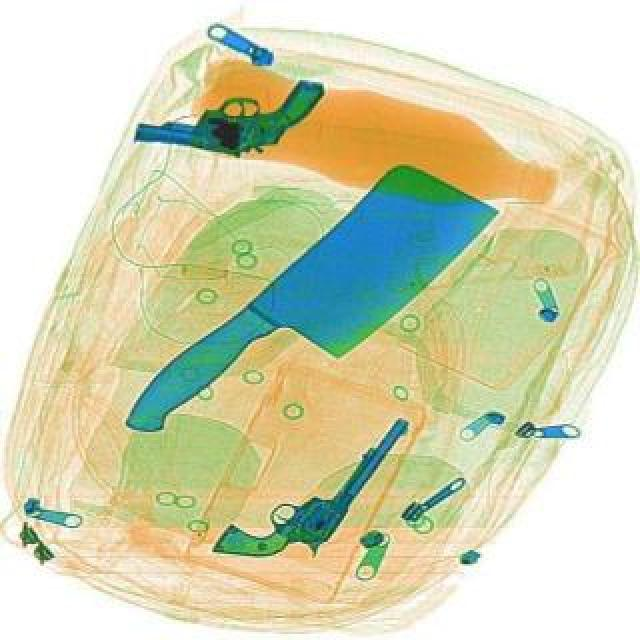gun: (196, 412, 448, 592), (126, 76, 344, 170)
knife: (106, 128, 506, 496)
